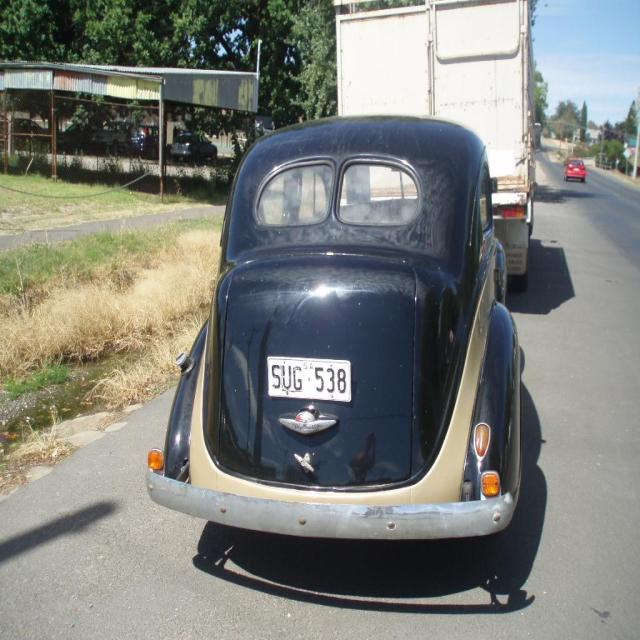car: (144, 112, 520, 539), (563, 158, 586, 182)
